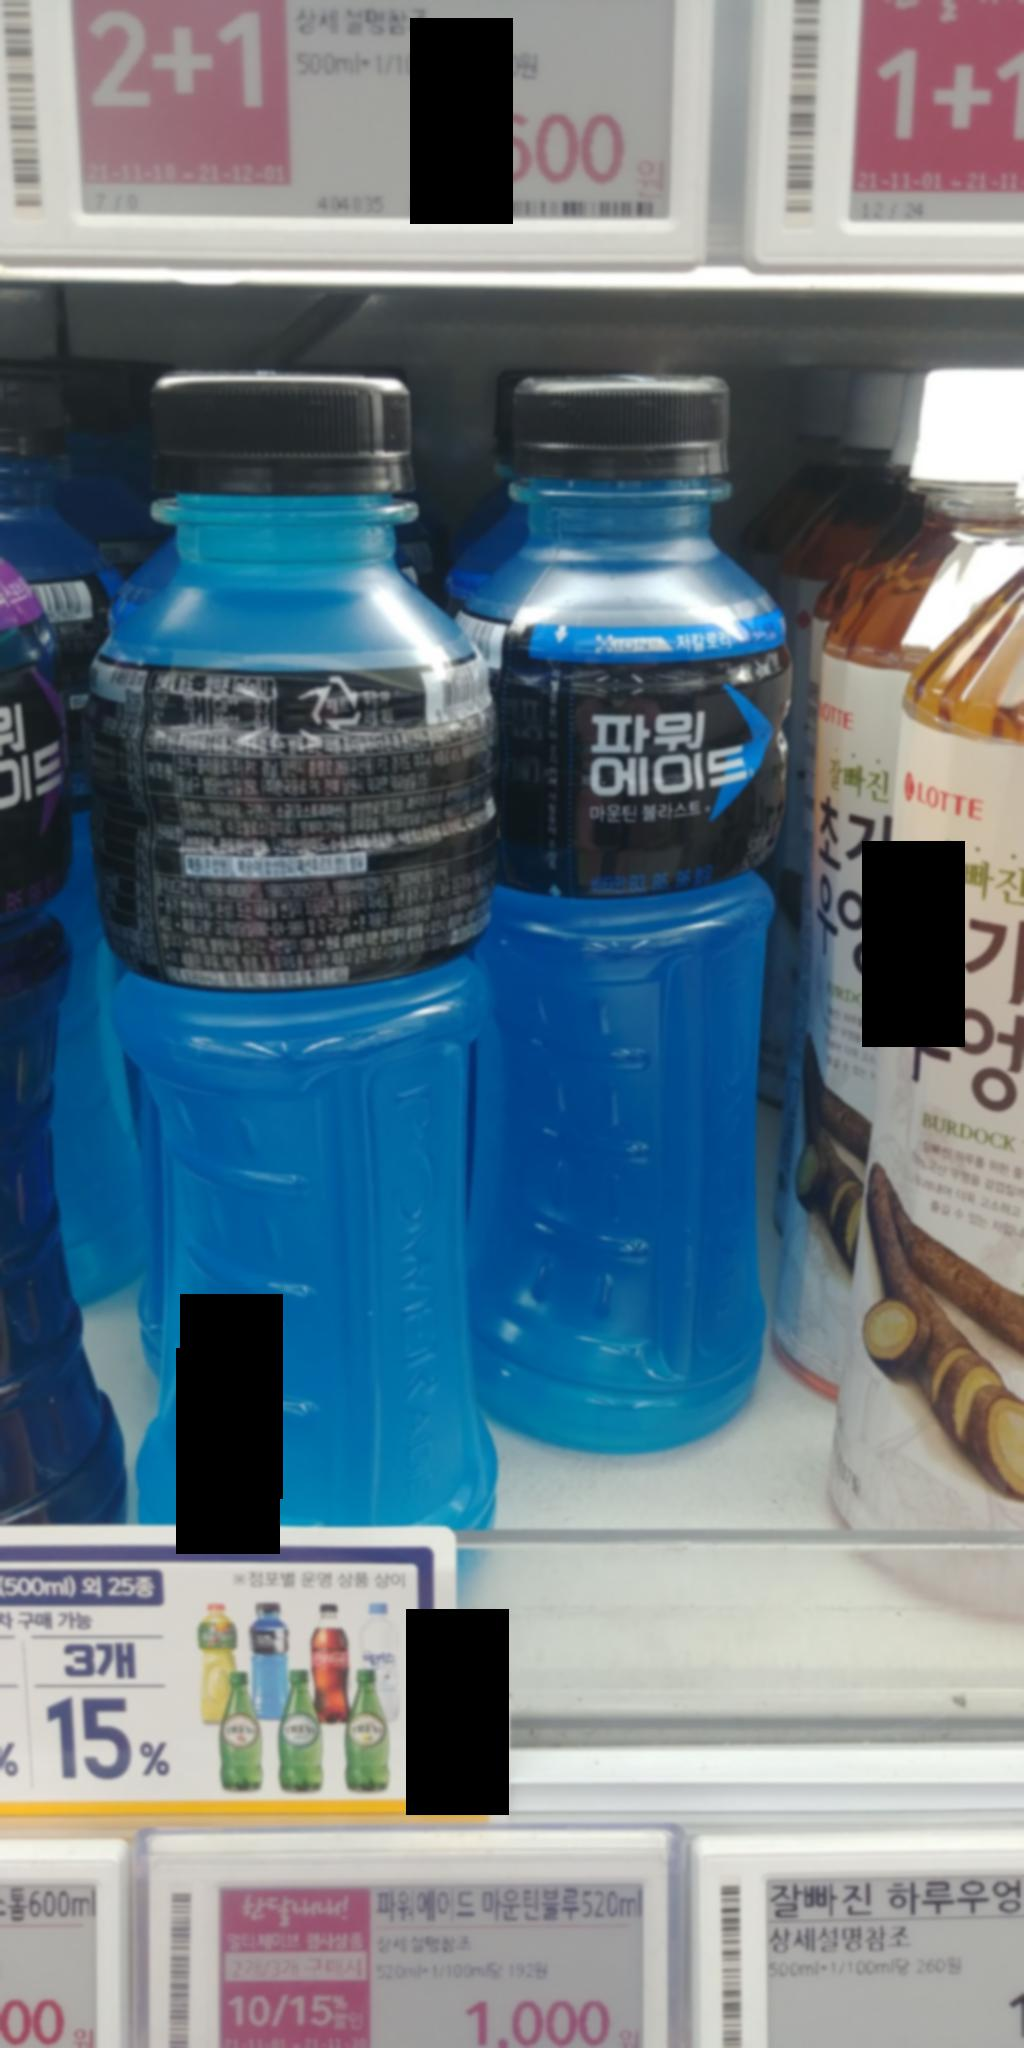powerade_mountainblast: (61, 363, 516, 1607), (461, 381, 788, 1469)
